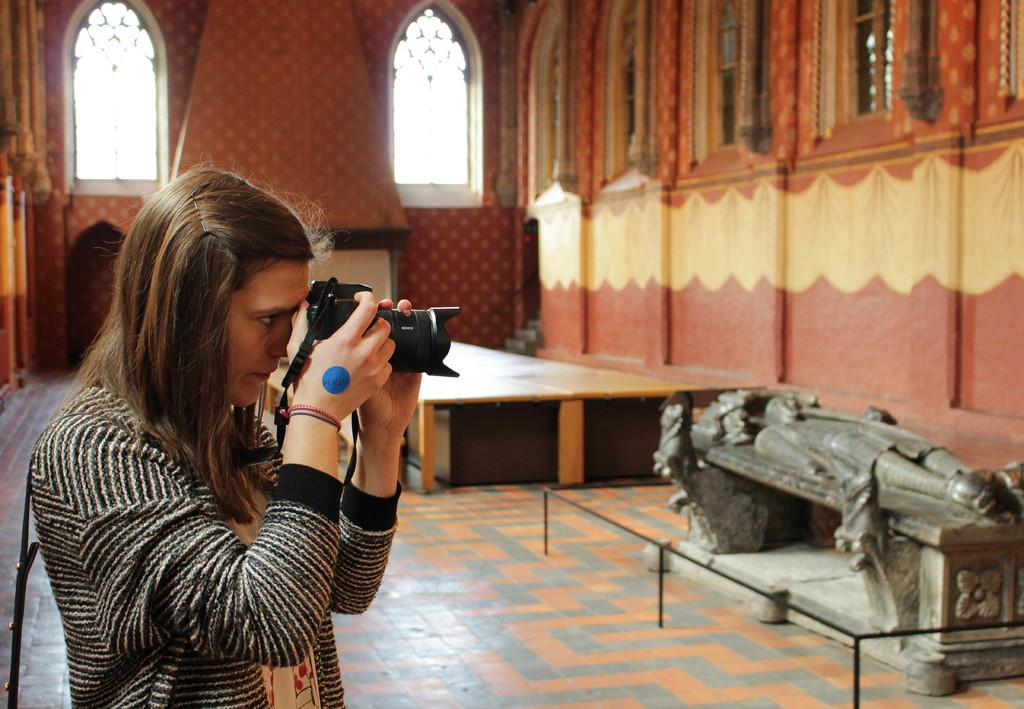Sem Máscara: (225, 262, 305, 407)
